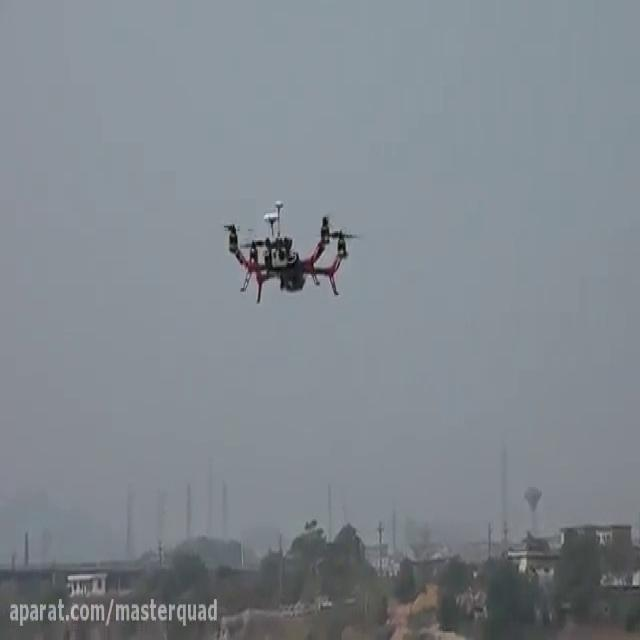drone: (212, 190, 365, 306)
